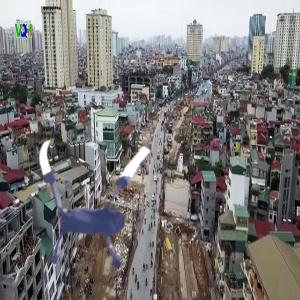drone: (12, 122, 183, 293)
